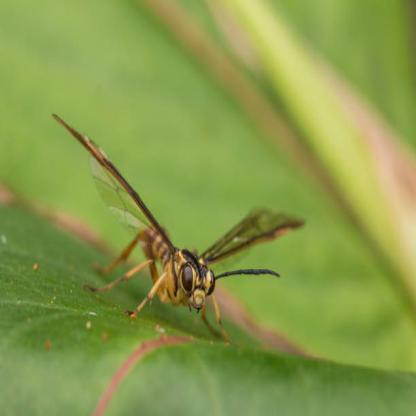sawfly: (52, 104, 310, 349)
